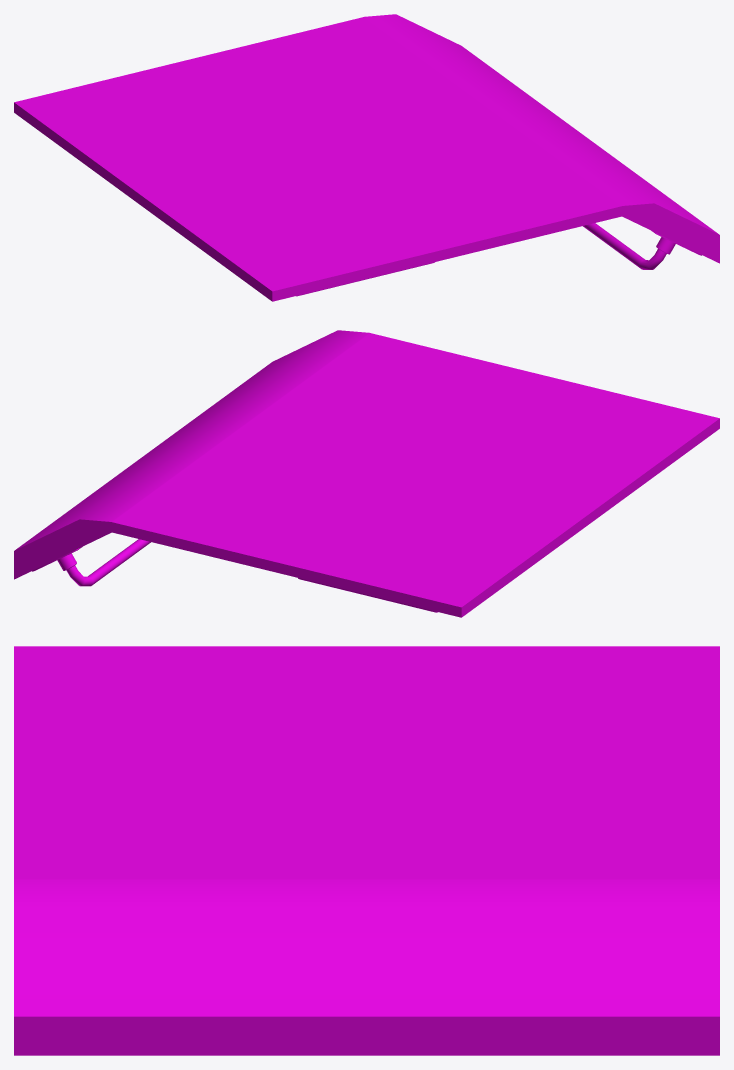
File: Ceiling01.fbx
3 views of the same model, one above another, from view 1: azimuth 30°, elevation 25°; view 2: azimuth 150°, elevation 25°; view 3: azimuth 270°, elevation 25° (orthographic). The views are drawn at different scales.
Parts seen in each view (by area): view 1: SM_Ceiling01; view 2: SM_Ceiling01; view 3: SM_Ceiling01.
Boxes of the visible parts, x1,y1,x2,y2 form: SM_Ceiling01: [14, 14, 719, 301]; SM_Ceiling01: [14, 330, 719, 617]; SM_Ceiling01: [14, 646, 719, 1055].
Size of the model in its own units: 200 by 39.01 by 200.
